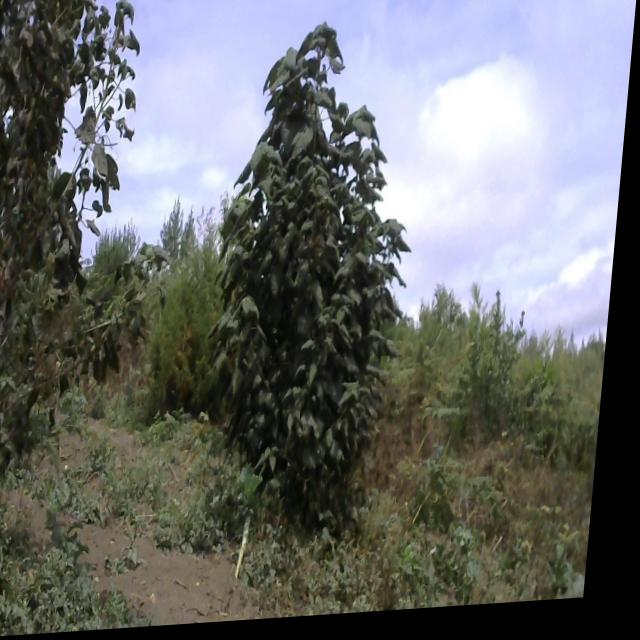cedrus: (153, 212, 236, 421)
other: (214, 20, 429, 529), (0, 0, 178, 460)
